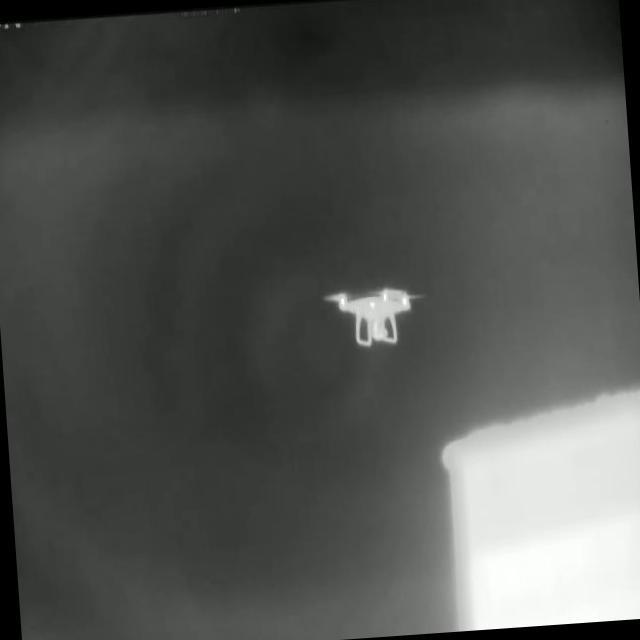DRONE: (317, 282, 428, 347)
